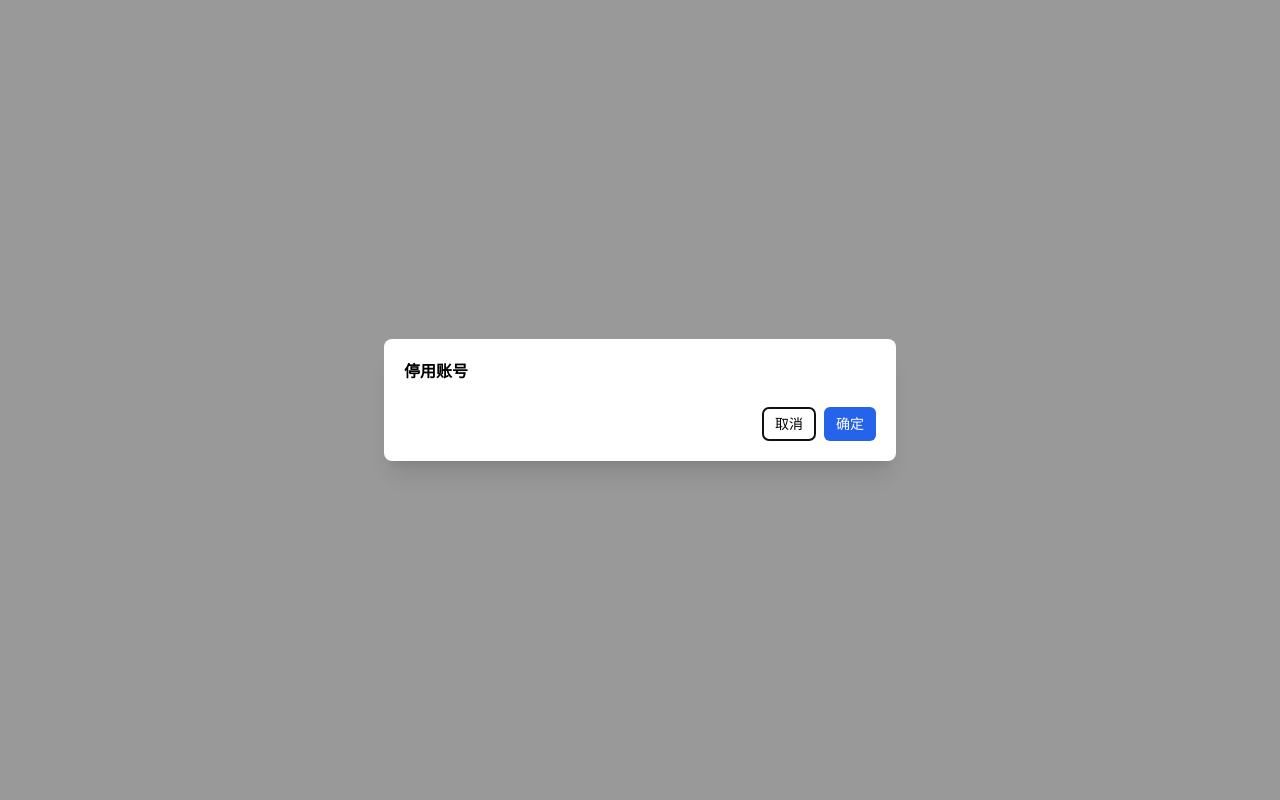
Scenario: 对话框 › 提交进行中不能关闭，提交完成后才关闭
Later steps or results of the test are not shown.
Click the button "确定".
click(850, 424)  # box left=824, top=407, right=876, bottom=441
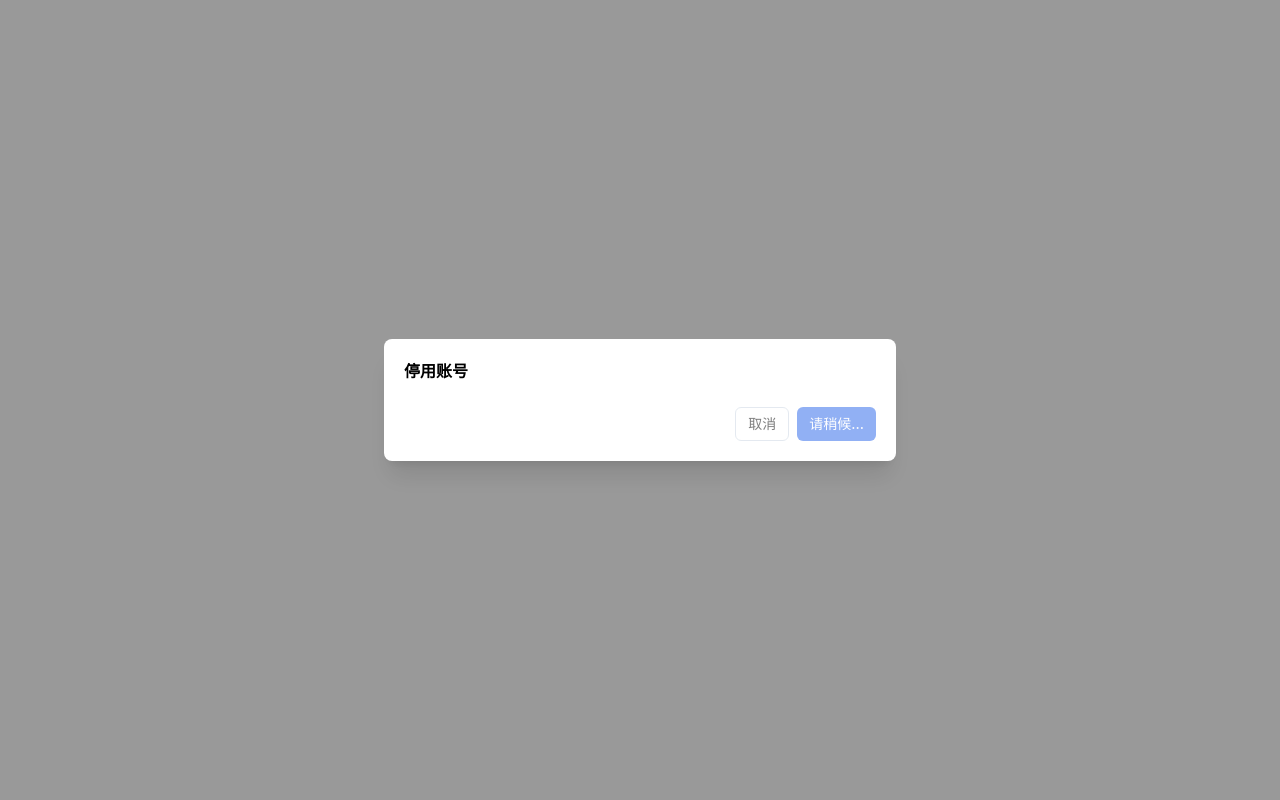
Now the button "取消" is disabled, box left=735, top=407, right=789, bottom=441
